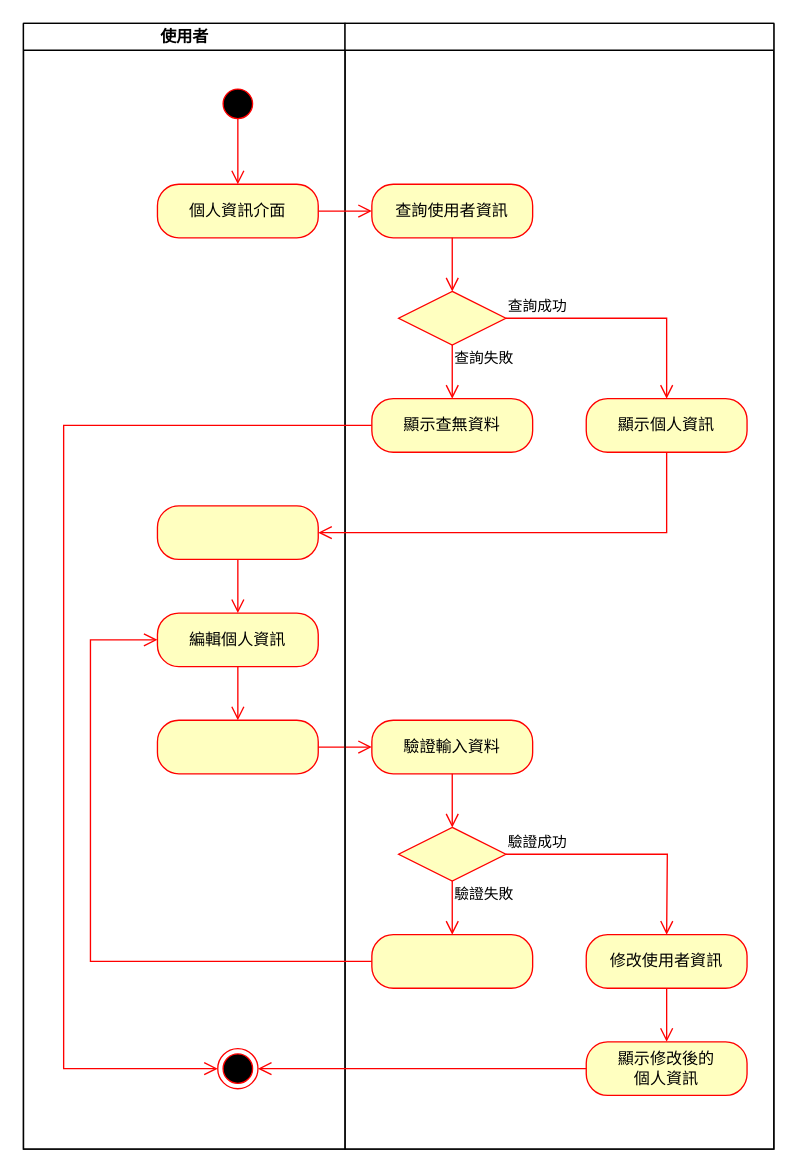
This 797x1173 diagram has some shape labels left out. The shapes that lost their labels are listed below. From the top down, each one's box as (x1, y1, x2, y2) in pixels, then its label:
(156, 505, 318, 559): 點選變更資料
(344, 22, 774, 1149): 系統
(156, 719, 318, 774): 點選儲存變更
(371, 933, 533, 988): 顯示驗證失敗
